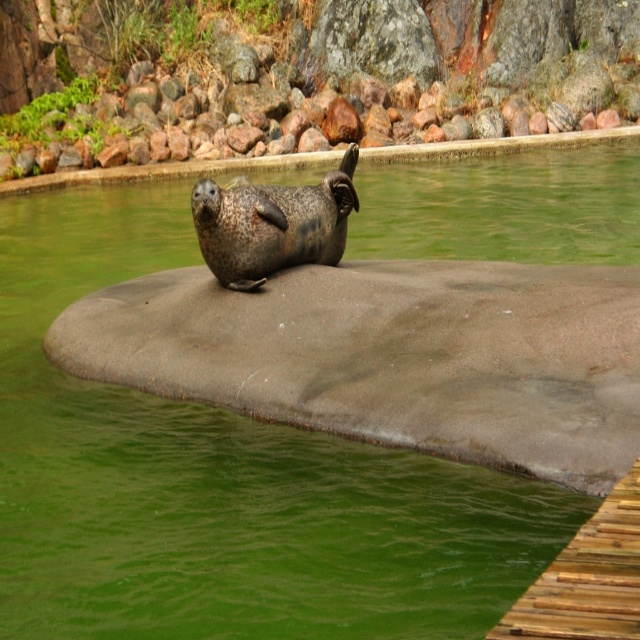Harbor seal: (183, 158, 364, 281)
